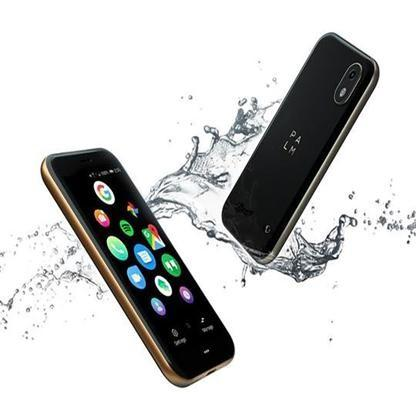not trash: (38, 141, 241, 388), (222, 32, 380, 271)
